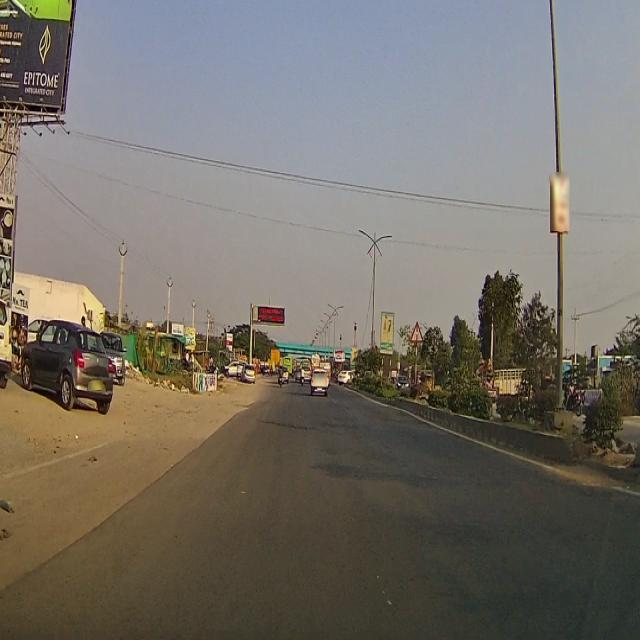gap-in-median: (408, 319, 425, 343)
